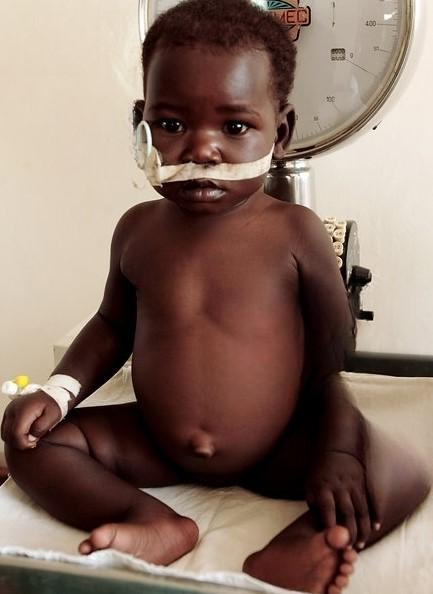MalNutrisi: (100, 5, 353, 255)
